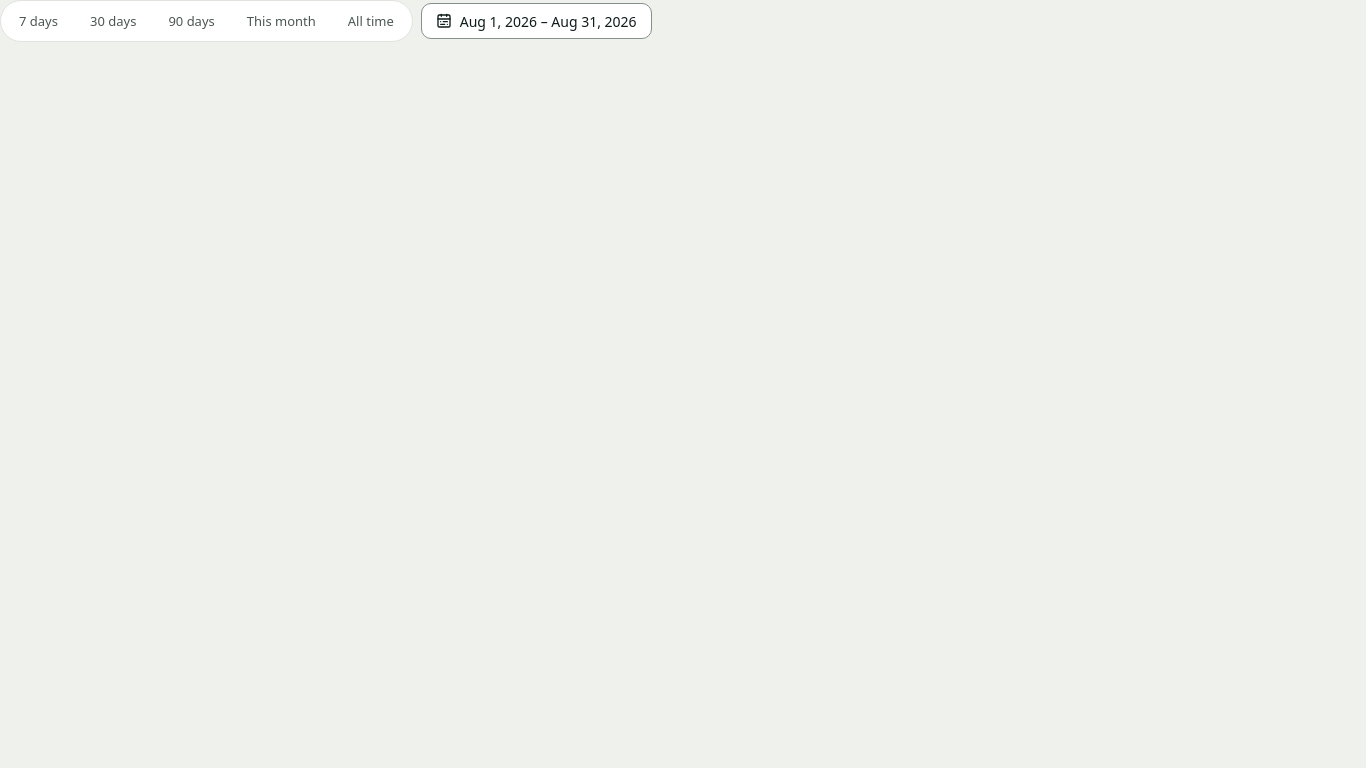
Test case: EarningsDateRangePicker › renders both date inputs (inside the custom-range popover) with the given controlled values
Click the button "Aug 1, 2026 – Aug 31, 2026" at point(536, 21), box [421, 3, 652, 39]
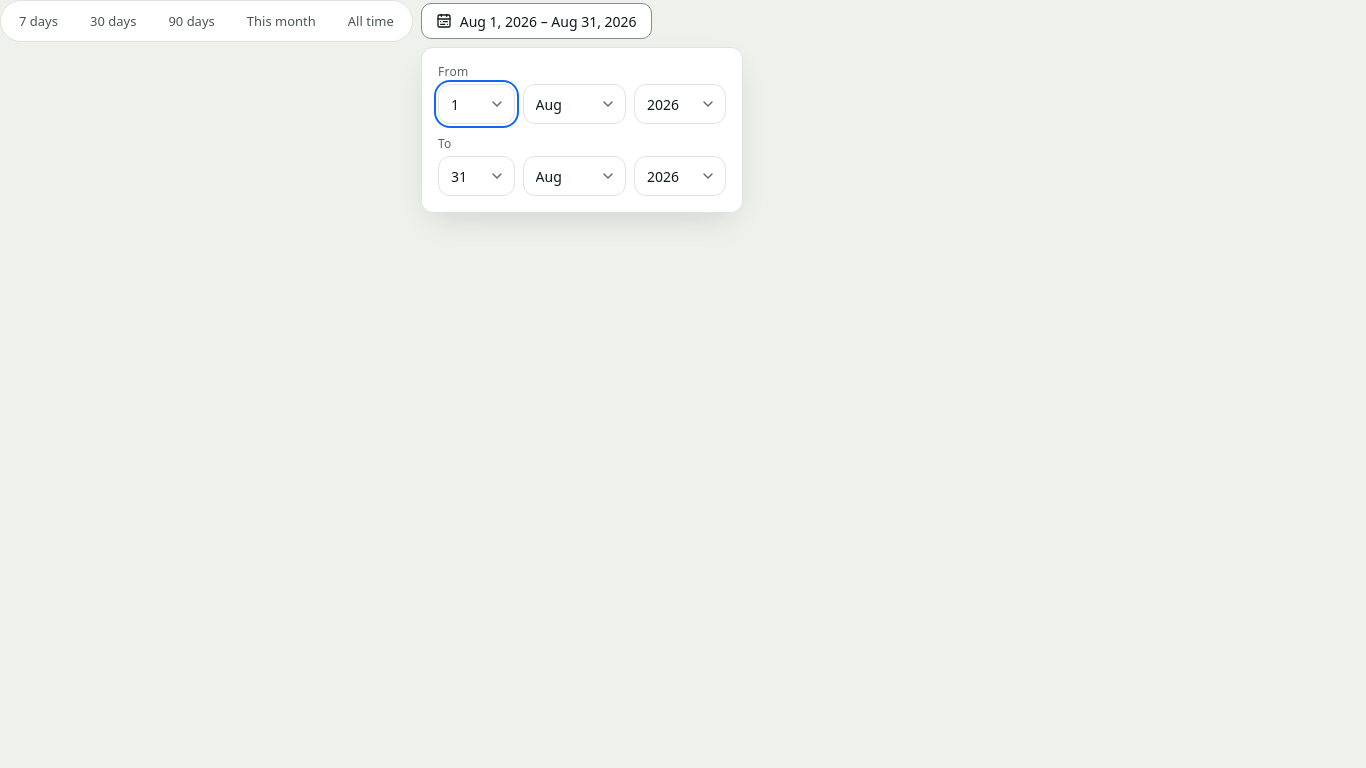
Expected: the dropdown named "Day" below "From" shows "1", [438, 84, 515, 124]
Expected: the dropdown named "Month" below "From" shows "Aug", [523, 84, 626, 124]
Expected: the dropdown named "Year" below "From" shows "2026", [634, 84, 726, 124]
